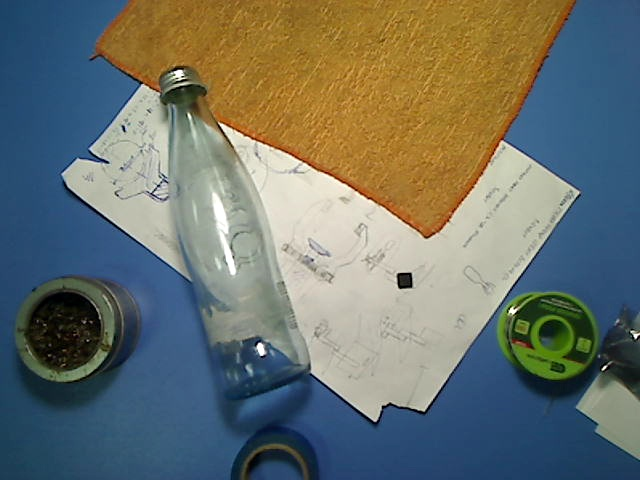bottle: (157, 65, 314, 403)
